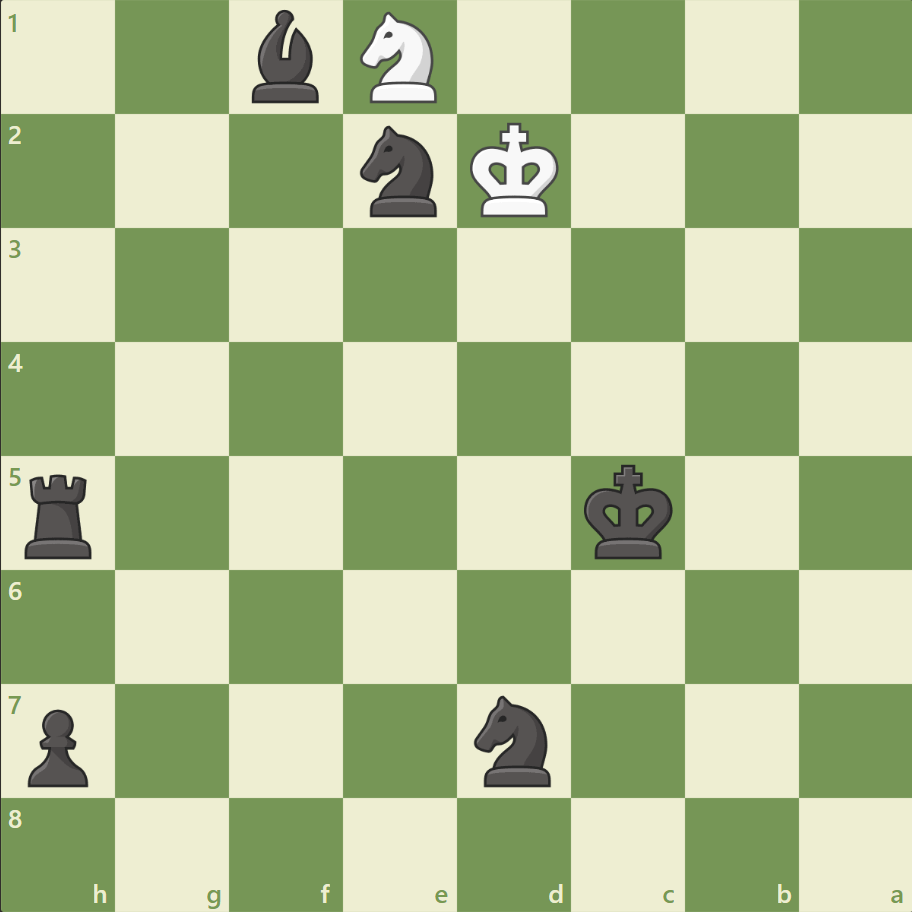K: (465, 117, 565, 225)
N: (351, 7, 449, 110)
b: (244, 6, 328, 109)
k: (579, 458, 679, 566)
n: (351, 121, 449, 223), (465, 688, 562, 791)
p: (20, 700, 95, 791)
r: (19, 466, 102, 563)
